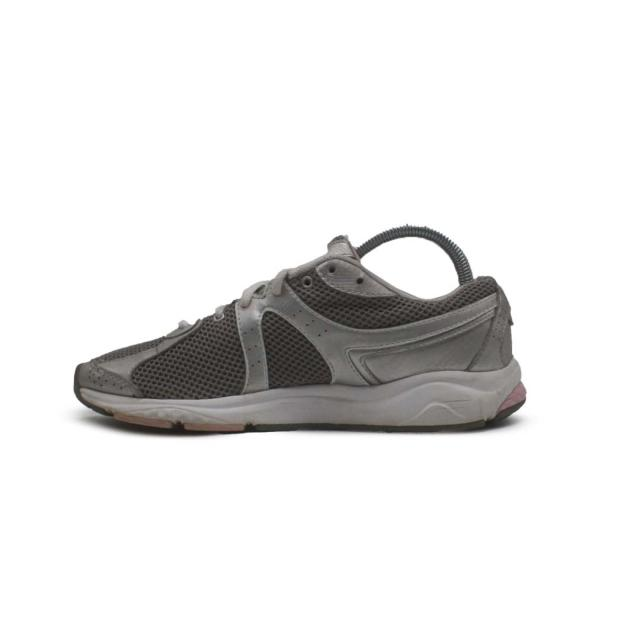heel: (459, 275, 512, 369)
midsole: (74, 356, 527, 434)
uppersole: (78, 234, 461, 400)
